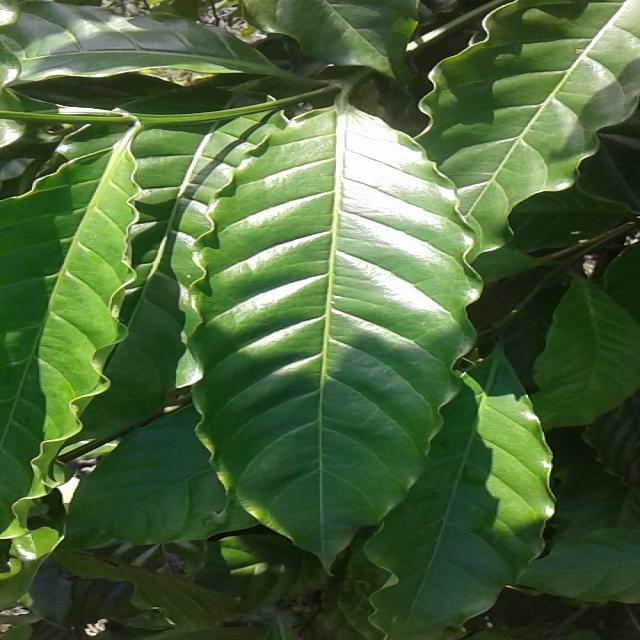Sanas: (170, 110, 476, 570)
